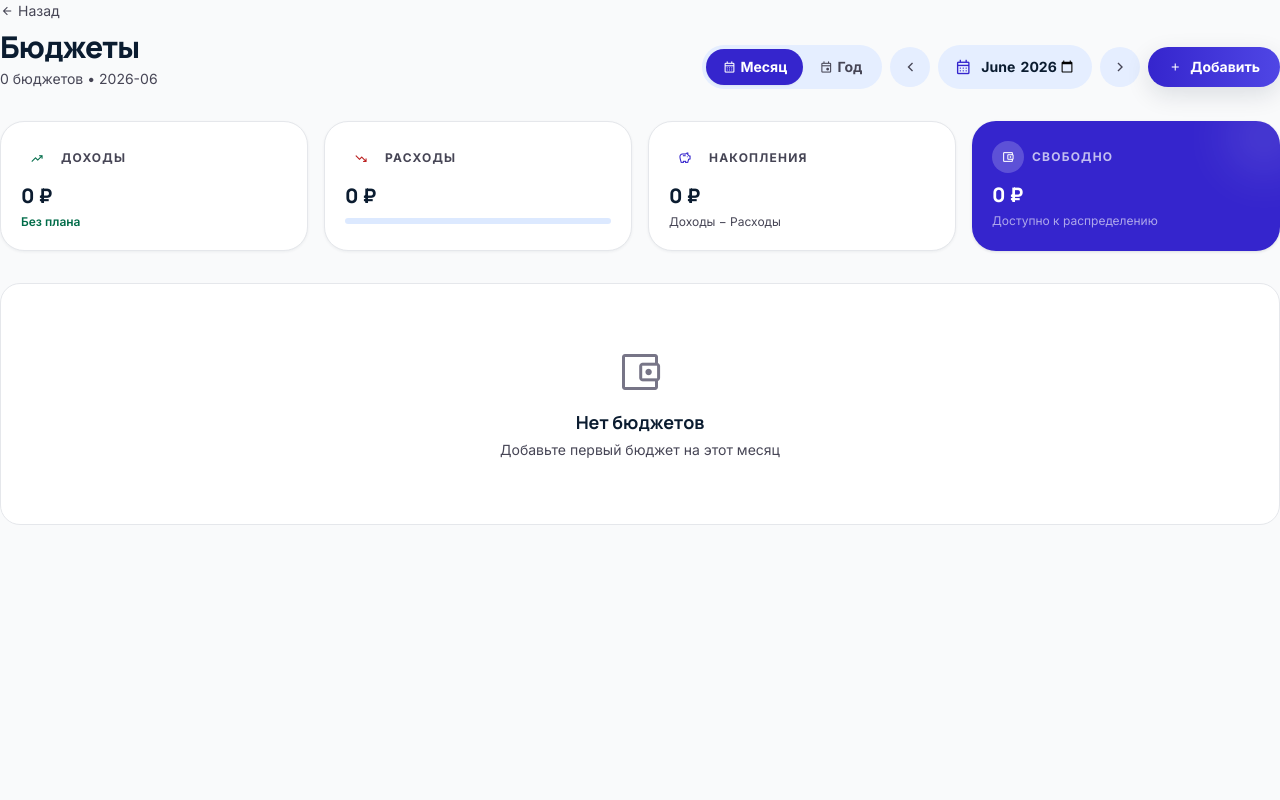
Test case: Budgets › opens create budget modal when add button is clicked
expect the heading "Бюджеты" is shown: met, box [0,29,158,65]
Click the button "Добавить": (1214, 67) [1148,47,1279,87]
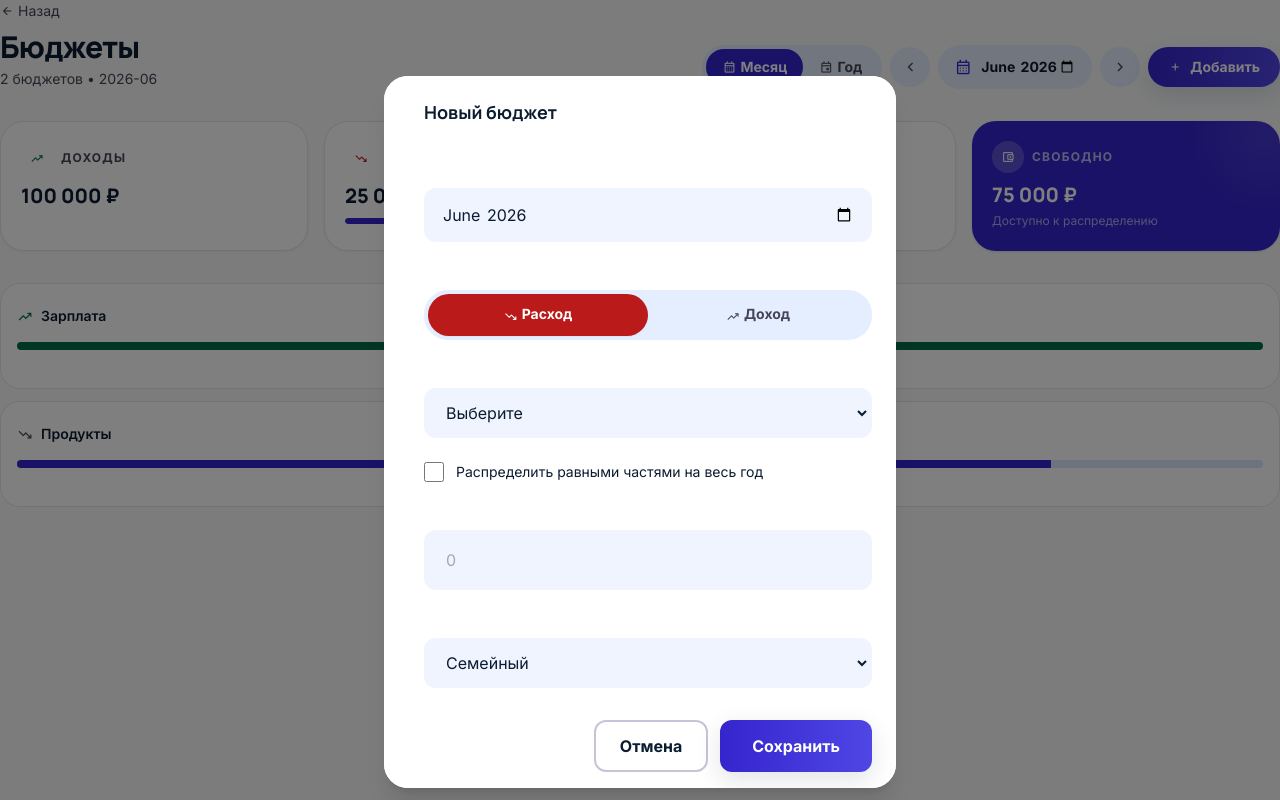
expect the heading "Новый бюджет" is shown: met, box [424,100,557,124]
